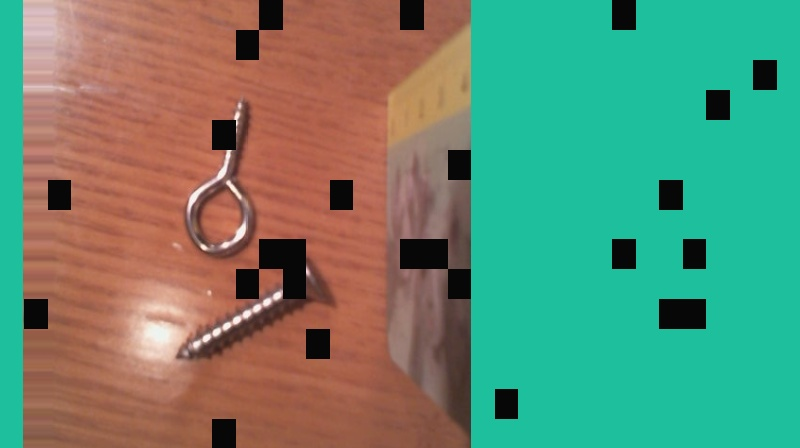O001: (181, 93, 256, 261)
S001: (174, 248, 335, 366)
